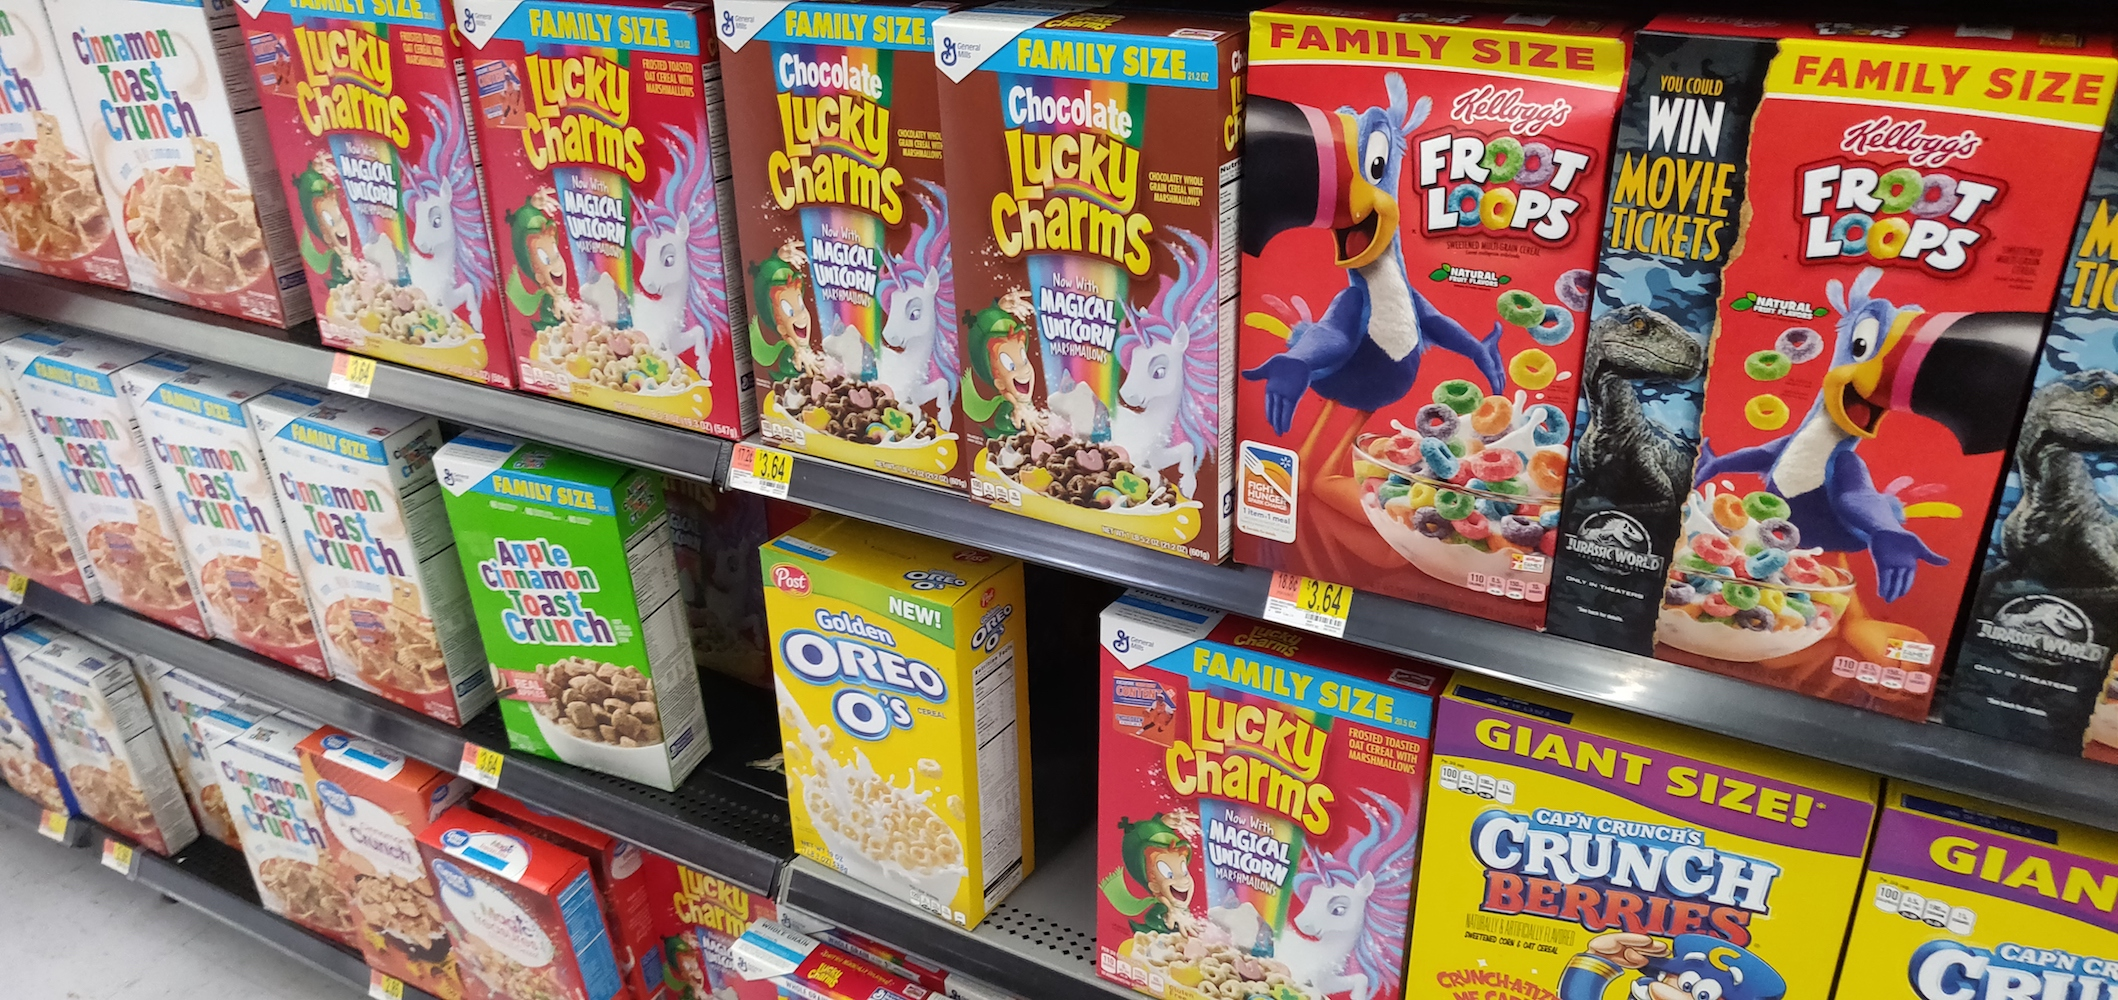Oreo Golden-568301011: (781, 555, 1020, 888)
